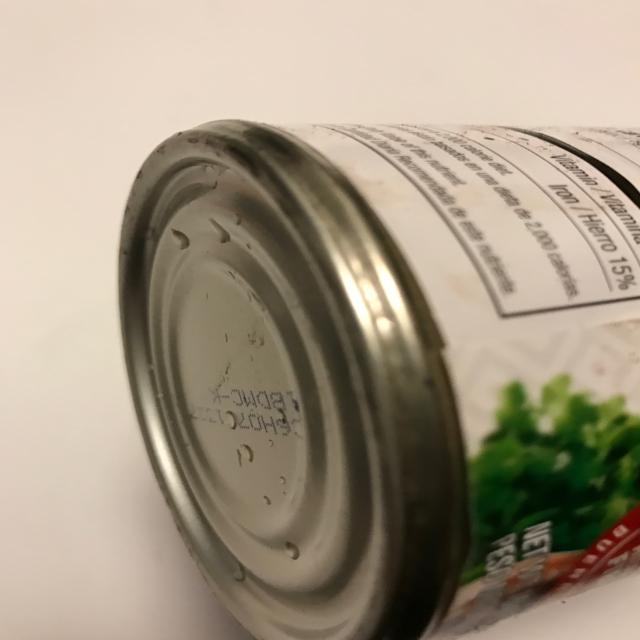metal: (116, 117, 640, 640)
